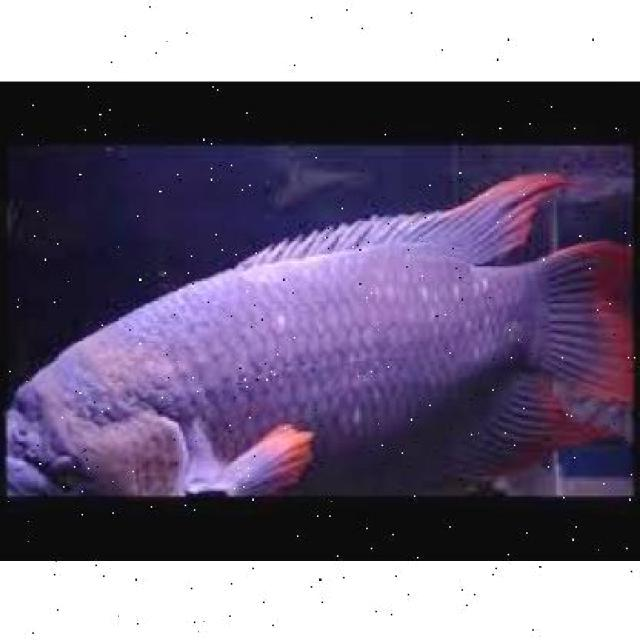gurame: (1, 176, 630, 498)
